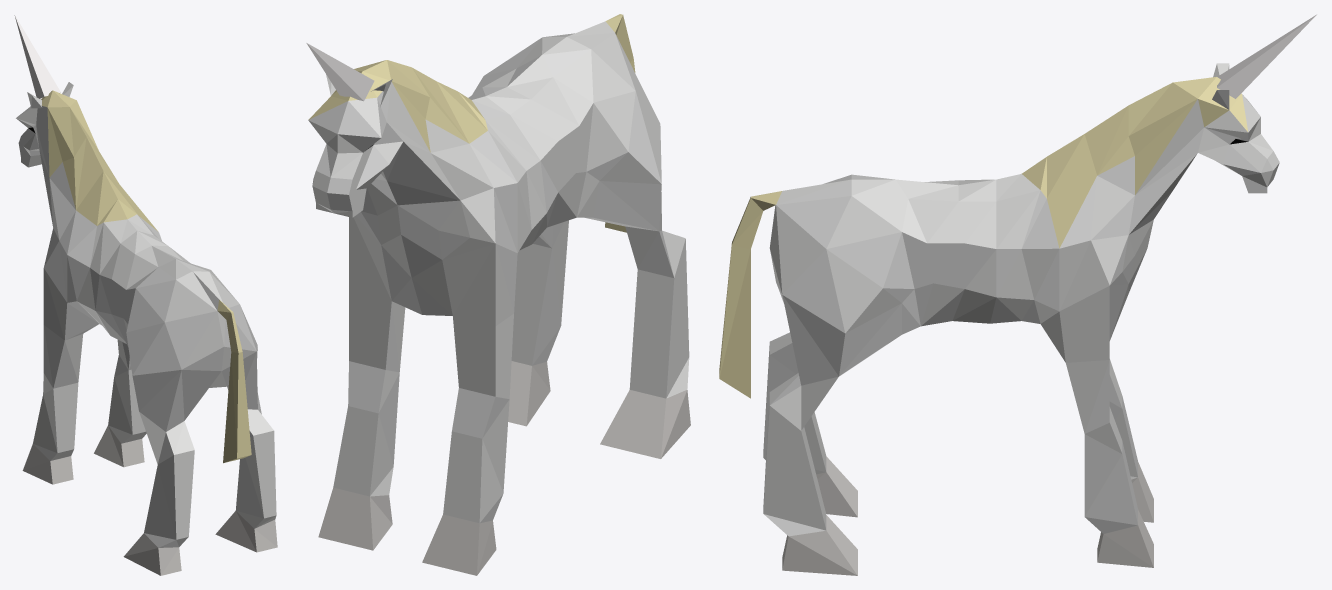
File: npc_world_unicorn_2_0.obj
3 views of the same model, side by side, from view 1: azimuth 30°, elevation 25°; view 2: azimuth 150°, elevation 25°; view 3: azimuth 270°, elevation 25° (orthographic). The views are drawn at different scales.
Size of the model in its own units: 0.5 by 1.42 by 1.48.
